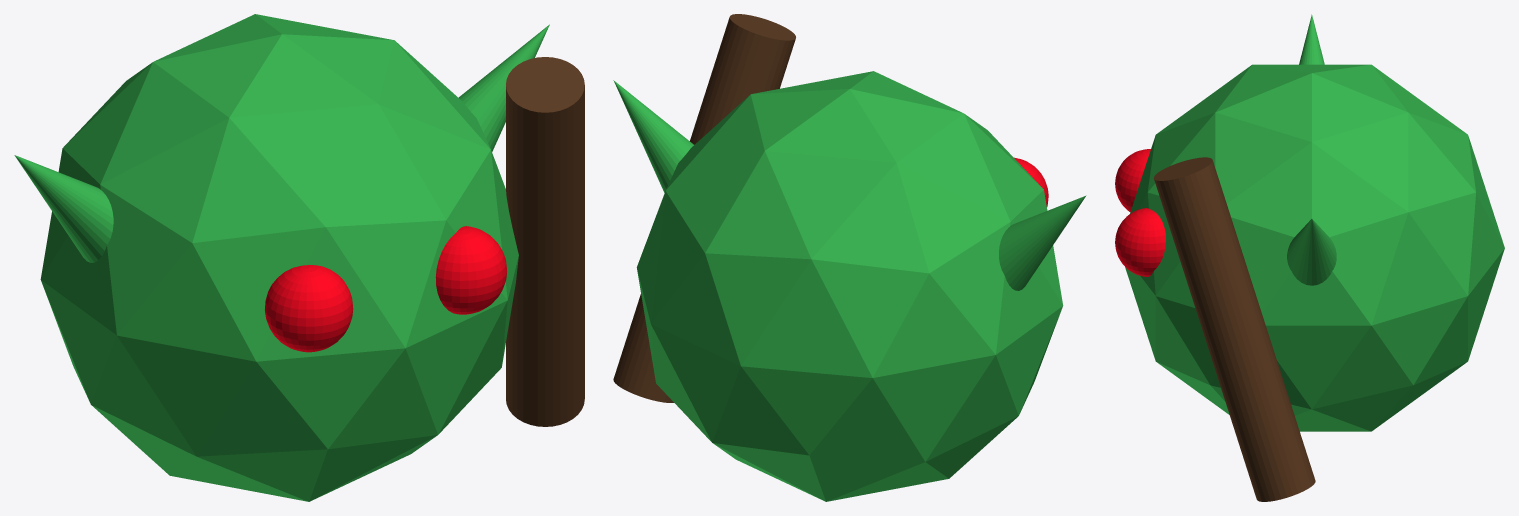
The model's file is bonkling.obj.
3 views of the same model, side by side, from view 1: azimuth 30°, elevation 25°; view 2: azimuth 150°, elevation 25°; view 3: azimuth 270°, elevation 25° (orthographic). The views are drawn at different scales.
Visible parts, largest first — view 1: Icosphere, Cylinder, Sphere, Sphere.001, Cone, Cone.001; view 2: Icosphere, Cylinder, Cone, Cone.001; view 3: Icosphere, Cylinder, Sphere.001, Cone.001, Sphere, Cone.
Boxes of the visible parts, x1,y1,x2,y2 form: Icosphere: (40,14,518,501); Cylinder: (506,57,584,426); Sphere: (265,265,353,352); Sphere.001: (435,226,506,314); Cone: (14,155,113,262); Cone.001: (458,24,549,151); Icosphere: (636,71,1063,501); Cylinder: (613,14,795,402); Cone: (999,195,1086,290); Cone.001: (613,80,693,192); Icosphere: (1125,64,1504,431); Cylinder: (1153,157,1315,501); Sphere.001: (1115,208,1165,276); Cone.001: (1287,219,1336,285); Sphere: (1115,149,1150,212); Cone: (1299,14,1324,64).
Size of the model in its own units: 1.28 by 1 by 1.01.
